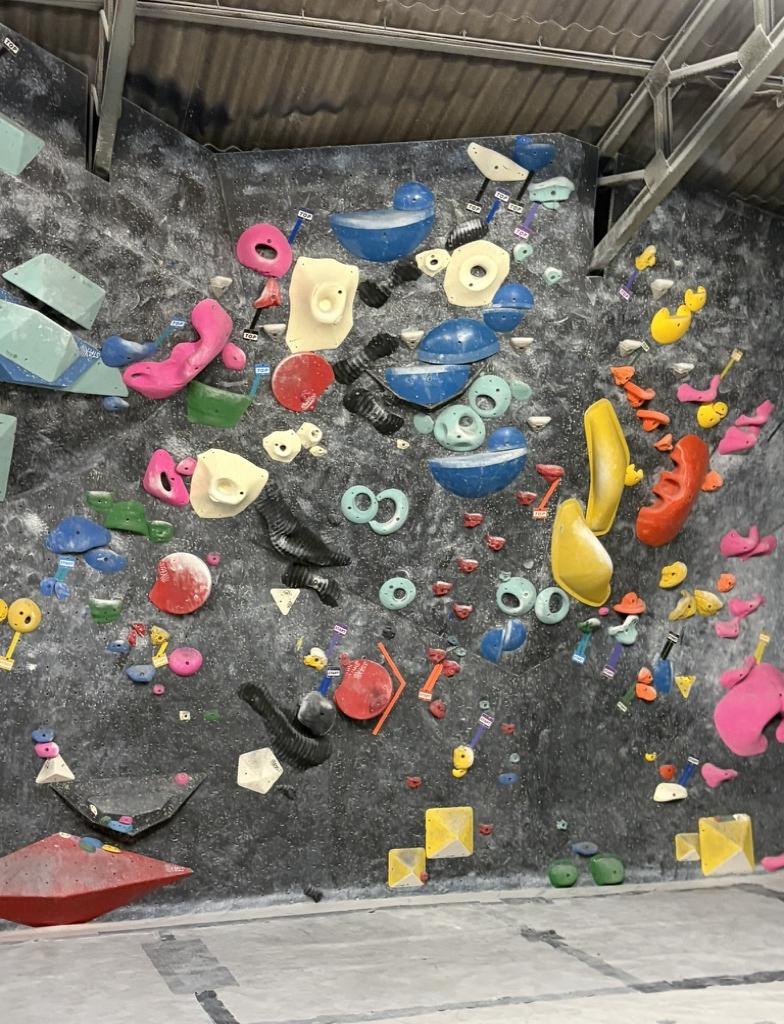downhold: (210, 276, 232, 298), (400, 329, 424, 349), (650, 279, 673, 299), (669, 362, 693, 379), (619, 339, 642, 355), (528, 415, 550, 431), (512, 337, 533, 352), (263, 323, 285, 337), (223, 289, 224, 289)
jug: (122, 299, 231, 398), (149, 552, 210, 614), (334, 333, 398, 383), (359, 257, 421, 307), (344, 385, 403, 434), (298, 691, 335, 735), (445, 217, 488, 251), (532, 176, 574, 209), (677, 376, 719, 402), (719, 425, 757, 453), (720, 527, 757, 555), (735, 400, 774, 426), (86, 548, 127, 572), (609, 615, 638, 645), (729, 594, 765, 618), (89, 597, 120, 622), (743, 535, 776, 558), (669, 591, 695, 620), (624, 382, 654, 407), (695, 590, 722, 615), (637, 410, 669, 431), (452, 745, 473, 777), (86, 491, 114, 512), (147, 521, 173, 542), (537, 464, 565, 483), (303, 648, 327, 669), (635, 245, 655, 270), (610, 366, 633, 385), (717, 618, 738, 638), (452, 603, 473, 619), (432, 581, 453, 597), (578, 618, 599, 633), (517, 490, 536, 506), (458, 558, 478, 573), (486, 536, 505, 550), (635, 685, 655, 698), (442, 661, 458, 677), (466, 512, 483, 527), (429, 648, 444, 663), (638, 667, 651, 683)
ledge: (237, 684, 331, 769), (331, 208, 434, 261), (428, 447, 527, 498), (384, 365, 469, 407), (282, 563, 340, 606), (468, 143, 528, 180), (512, 135, 554, 172), (651, 305, 691, 343), (483, 306, 523, 332), (684, 286, 705, 312)
pocket: (286, 256, 357, 351), (190, 448, 267, 517), (444, 240, 508, 306), (237, 224, 291, 277), (143, 451, 188, 506), (435, 404, 484, 450), (469, 374, 510, 417), (370, 488, 407, 534), (497, 577, 535, 614), (341, 485, 377, 523), (535, 587, 569, 624), (263, 430, 301, 462), (379, 577, 415, 610), (416, 249, 450, 276), (297, 423, 322, 448), (474, 293, 474, 294)
sidepull: (551, 499, 611, 604), (584, 399, 628, 535), (653, 659, 673, 694)
sloper: (168, 647, 201, 675)
tape: (507, 171, 535, 216), (532, 477, 559, 518), (419, 662, 443, 701), (514, 203, 539, 240), (155, 318, 185, 346), (469, 713, 493, 748), (288, 210, 312, 244), (486, 190, 508, 222), (0, 633, 19, 670), (326, 624, 346, 659), (250, 364, 271, 396), (467, 179, 487, 212), (602, 645, 622, 677), (677, 756, 698, 786), (720, 350, 741, 378), (620, 269, 638, 300), (243, 308, 259, 341), (659, 633, 679, 659), (320, 669, 340, 695), (754, 632, 770, 663), (573, 634, 589, 663), (618, 683, 635, 709), (55, 558, 75, 580), (629, 342, 648, 365), (154, 642, 166, 666)
undercling: (254, 478, 349, 565), (2, 253, 104, 327), (714, 664, 783, 756), (418, 318, 499, 363), (46, 515, 110, 553), (104, 502, 147, 534), (493, 284, 533, 309), (659, 561, 686, 588), (655, 782, 687, 801)
volume: (0, 833, 192, 926), (1, 289, 127, 397), (50, 775, 204, 841), (697, 815, 752, 875), (426, 807, 473, 857), (388, 848, 427, 887)
